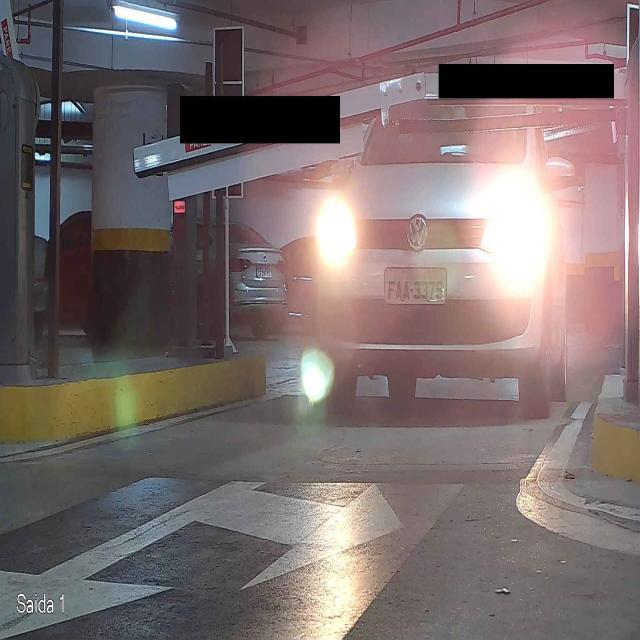old_plate: (383, 266, 448, 306)
